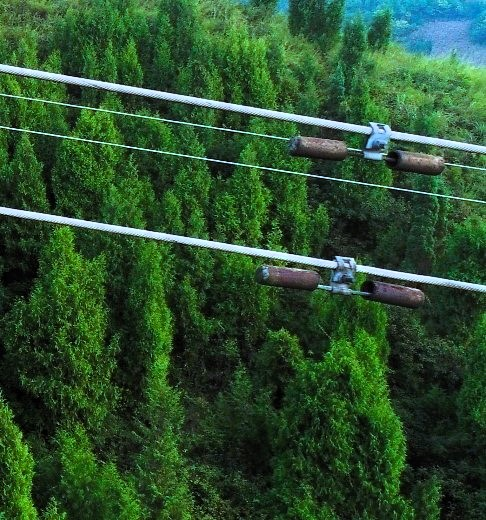Shockproof hammer: (253, 243, 431, 317), (282, 107, 451, 181)
